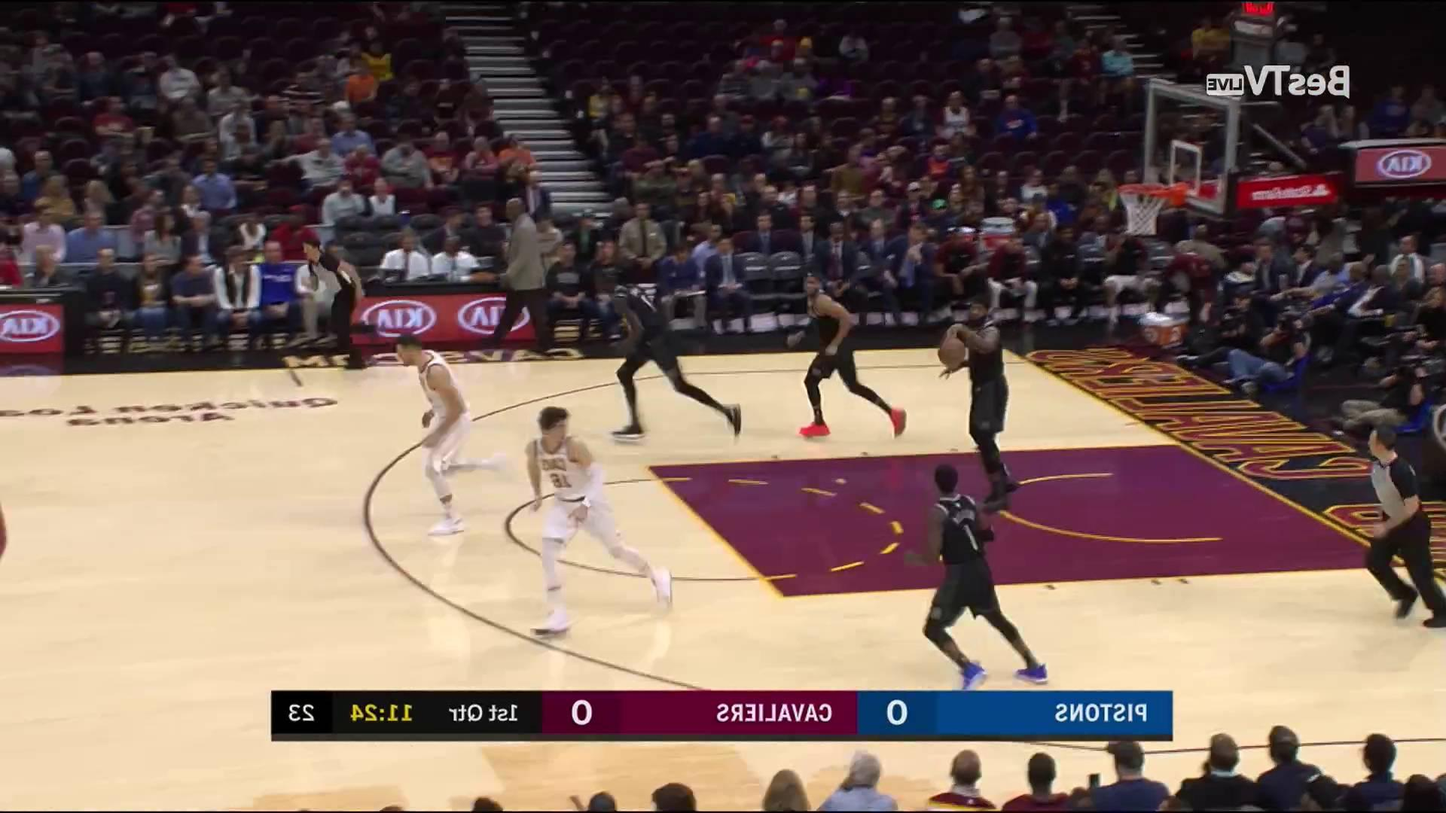basketball: (936, 339, 969, 365)
